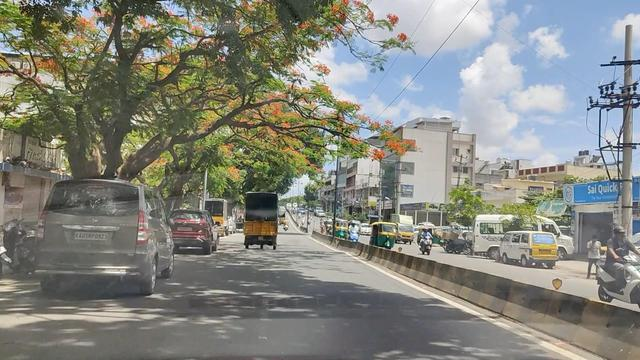HMV: (243, 191, 281, 248)
LMV: (41, 172, 150, 301), (175, 208, 211, 248)
